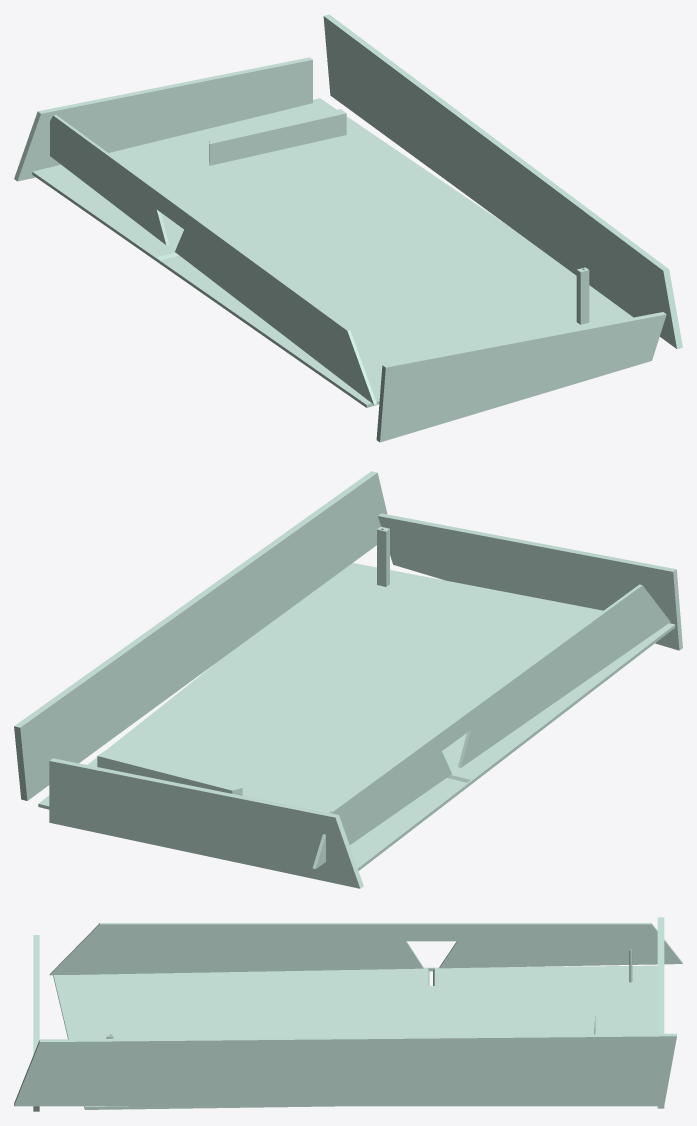
The picture shows the model from 3 angles, top to bottom: view 1: azimuth 30°, elevation 25°; view 2: azimuth 150°, elevation 25°; view 3: azimuth 270°, elevation 25°; orthographic projection. The views are drawn at different scales.
Parts seen in each view (by area): view 1: Renderer Node; view 2: Renderer Node; view 3: Renderer Node.
Boxes of the visible parts, x1,y1,x2,y2 form: Renderer Node: (14, 14, 682, 442); Renderer Node: (14, 471, 682, 888); Renderer Node: (14, 917, 682, 1111).
Size of the model in its own units: 0.8557 by 0.2664 by 1.63.
